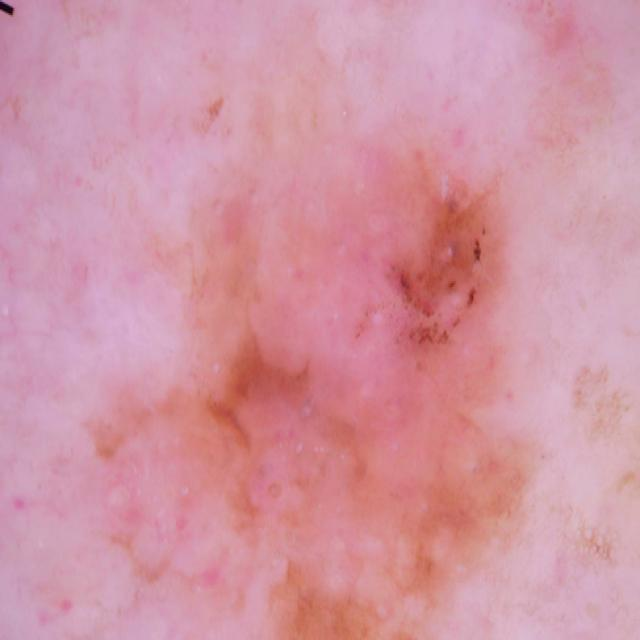Carcinoma: (80, 85, 560, 640)
